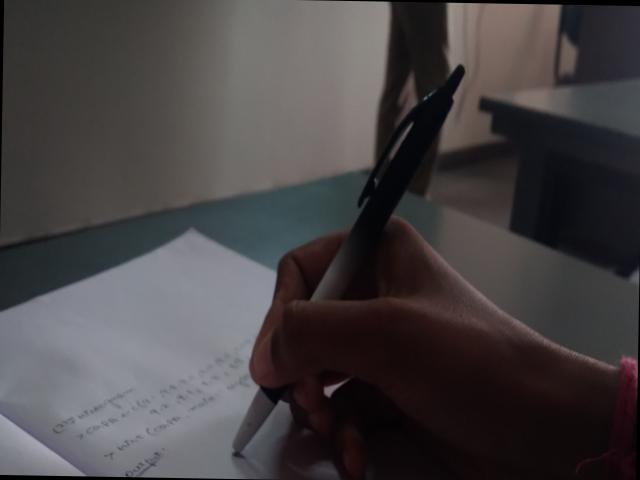PEN: (197, 43, 487, 473)
